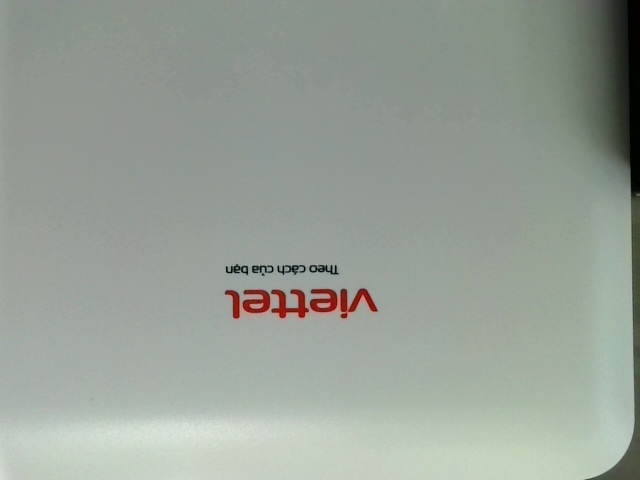AY_Viettel: (214, 260, 385, 318)
